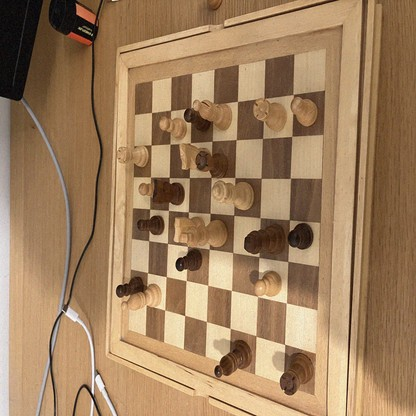bishop_white: (193, 100, 233, 129), (121, 284, 162, 312)
king_black: (245, 225, 286, 252)
king_white: (180, 220, 228, 247)
knight_black: (152, 180, 185, 205)
knight_white: (173, 215, 204, 242), (181, 144, 201, 170)
pawn_black: (287, 223, 313, 249), (137, 214, 165, 235), (184, 110, 211, 130), (175, 252, 202, 271), (116, 276, 142, 294)
pawn_white: (254, 270, 283, 297), (291, 96, 317, 125), (160, 117, 185, 139)
queen_white: (212, 181, 254, 210)
rock_black: (196, 152, 228, 179)
rock_white: (254, 100, 287, 132), (117, 146, 149, 166)
